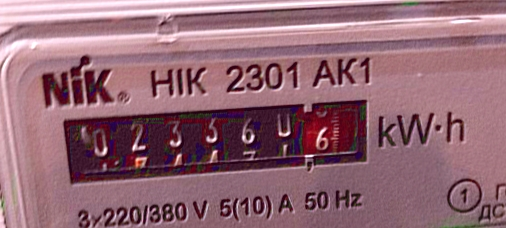0: (89, 125, 112, 159), (272, 108, 295, 140)
2: (128, 119, 149, 152)
3: (202, 111, 222, 144), (164, 118, 184, 149)
6: (237, 113, 259, 146), (312, 121, 334, 154)
screen: (47, 90, 386, 189)
